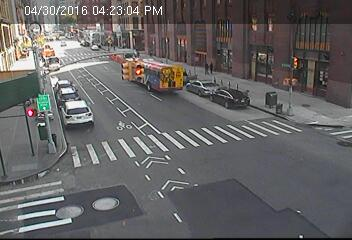neg: (163, 175, 179, 196), (34, 92, 49, 112), (263, 92, 277, 110)
pos: (199, 59, 210, 75)
